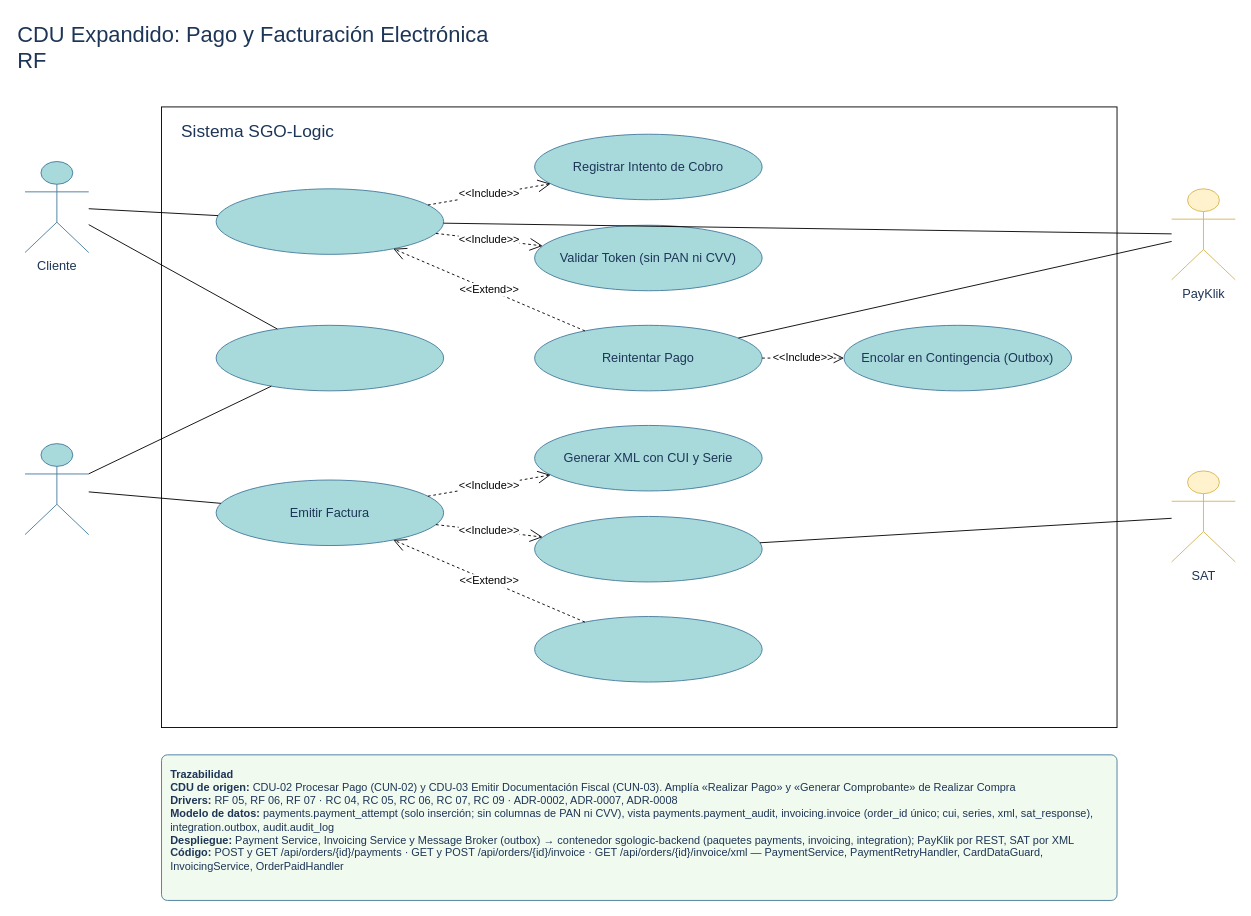
Image size: 1251x916. Some labels were removed from this diagram. The shapes that lost their labels are listed below. From the top down, each one's centre as x and y in pixels, then its label:
At [329,221]: "Recibir Pago".
At [329,357]: "Consultar Factura".
At [56,489]: "Finanzas".
At [648,549]: "Transmitir a la SAT".
At [648,649]: "Escalar a Revisión Manual".
